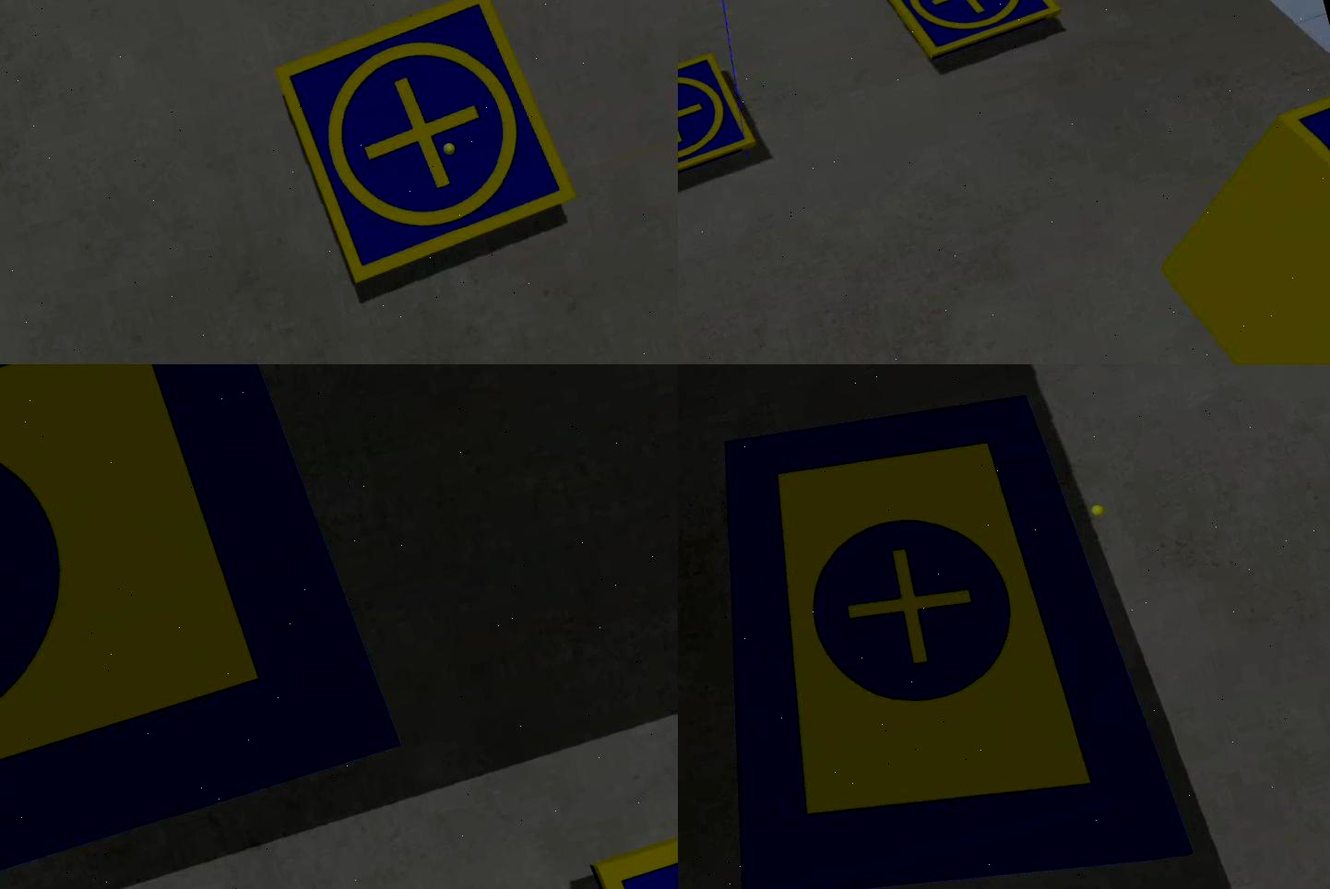large_base: (678, 365, 1196, 889), (1, 365, 415, 889)
small_base: (268, 1, 590, 297), (874, 1, 1064, 73), (678, 48, 765, 196), (588, 779, 678, 889), (1277, 89, 1330, 229)
